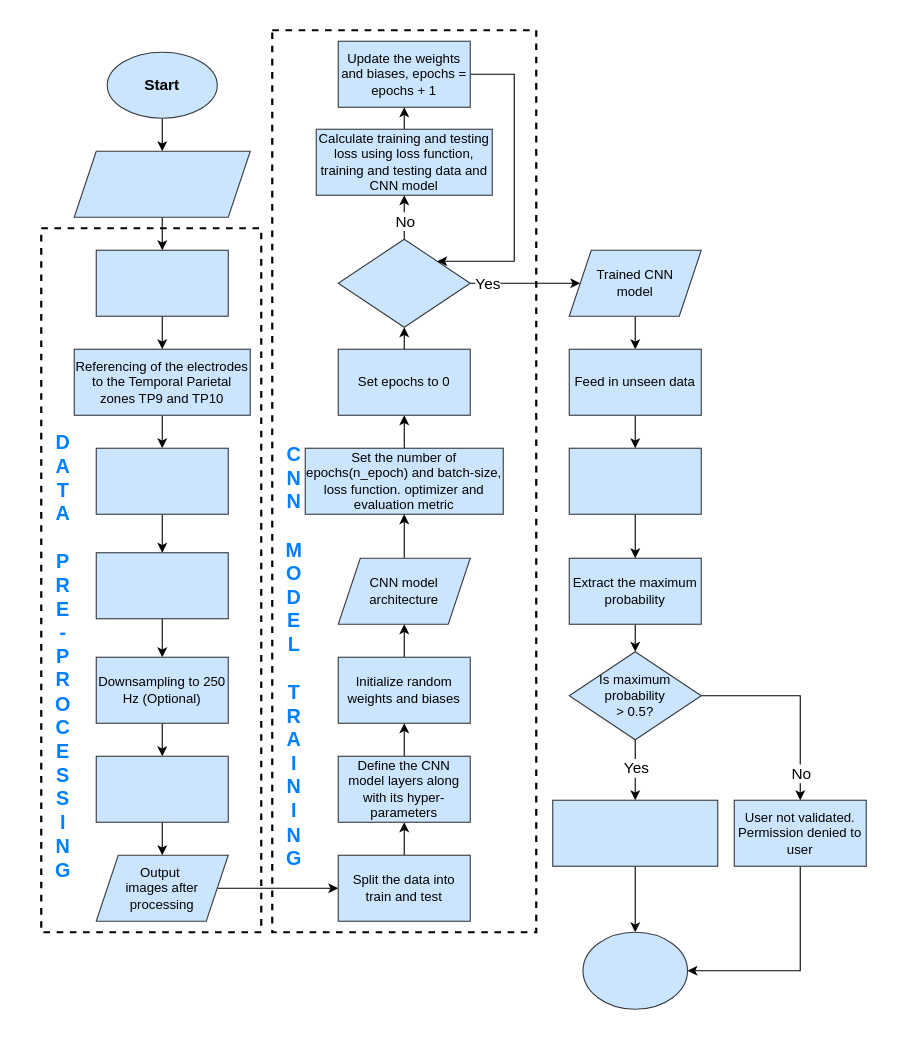
This 897x1040 diagram has some shape labels left out. The shapes that lost their labels are listed below. From the top down, each one's box as (x1, y1, x2, y2) in pixels, then its label:
(73, 150, 250, 217): Input EEG signal data captured from EEG device sensors
(95, 249, 228, 316): Bad channel repairing of EEG signals
(337, 238, 470, 327): Is epochs = n_epoch?
(95, 447, 228, 514): Noise removal using bandpass filter(0.01 Hz-200 Hz)
(568, 447, 701, 514): Check confidence/probability of the cells in output layer
(95, 552, 228, 619): Artifact removal using ICA filter
(95, 755, 228, 822): Conversion to Mel Spectrograms
(552, 799, 718, 866): User authenticated/validated
(582, 931, 688, 1009): Stop
